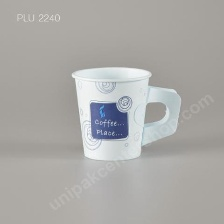paper_cup: (65, 62, 186, 165)
